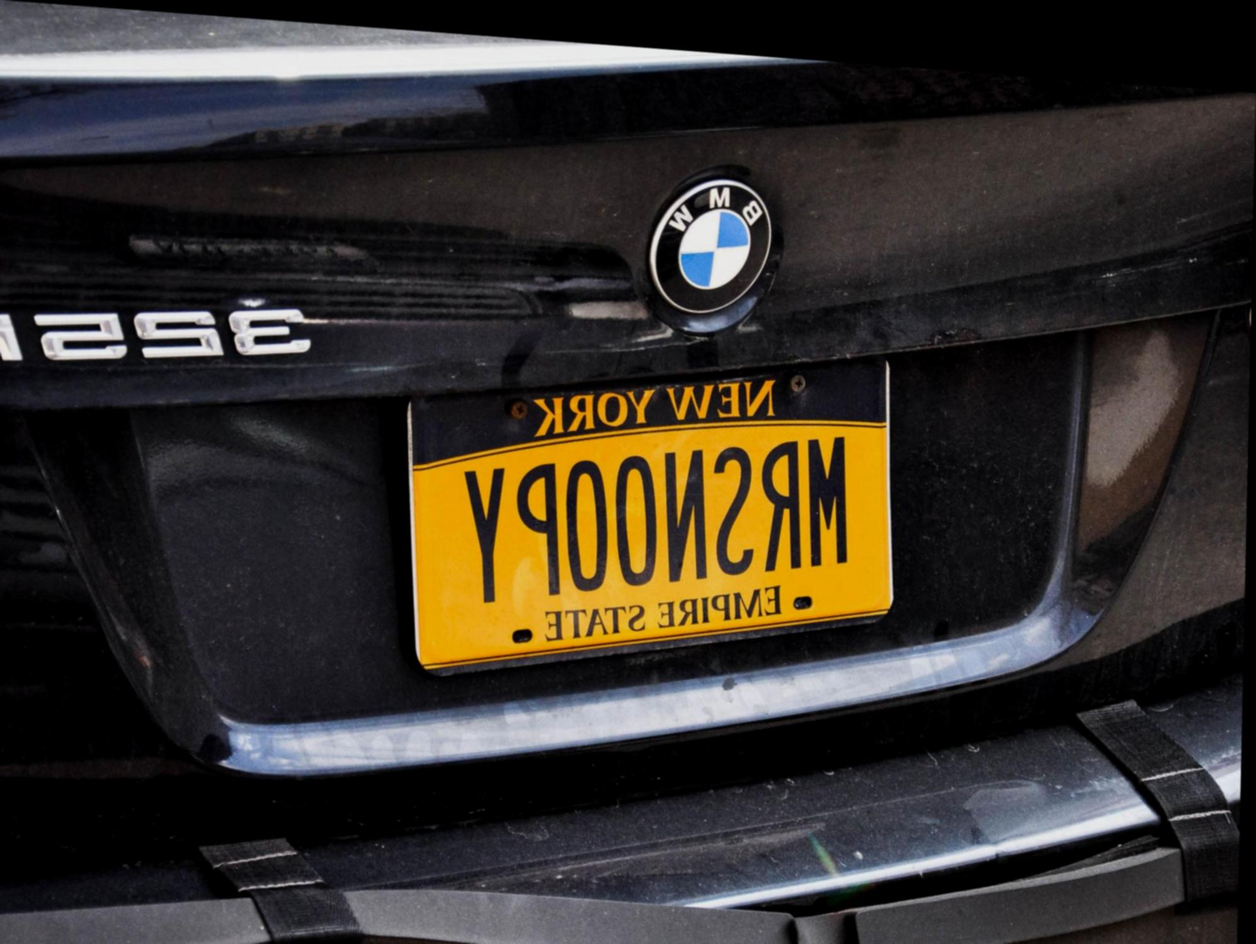License_Plate: (399, 317, 892, 707)
